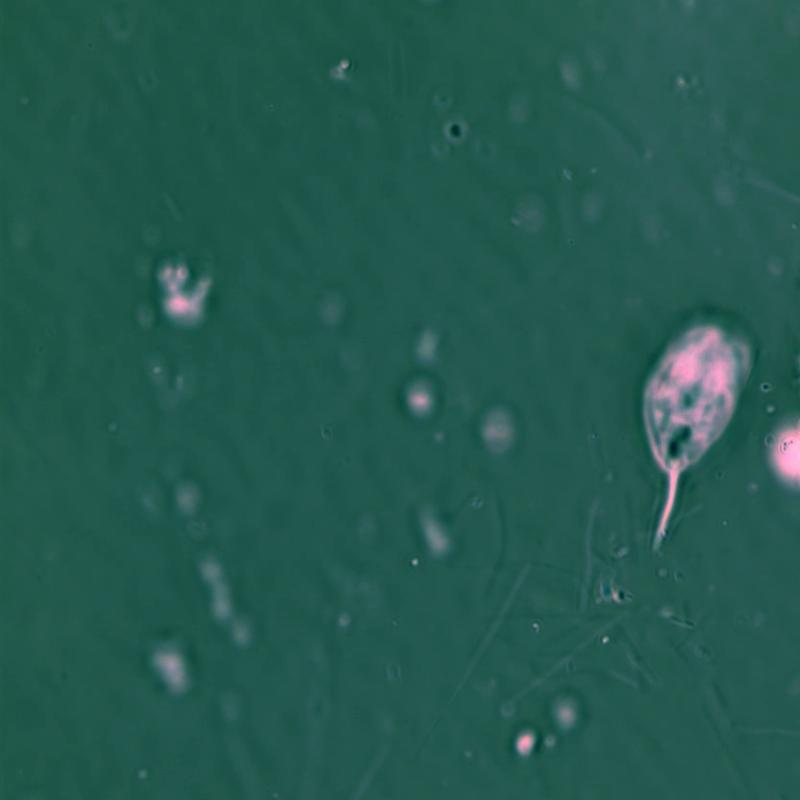depth:40: (600, 281, 782, 551)
